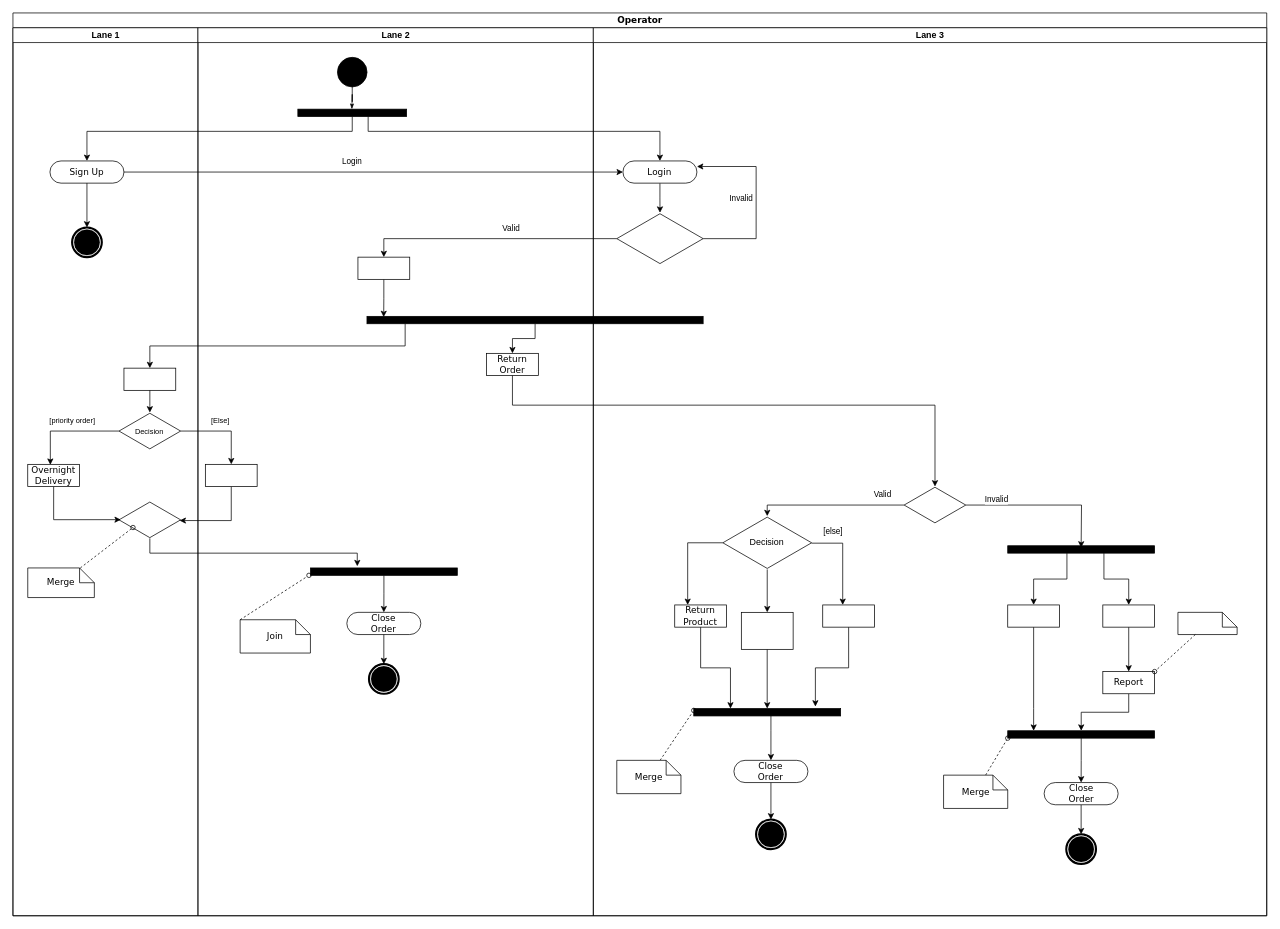
Image size: 1280x929. Some labels were removed from this diagram. Here are the shapes that lost their labels. From the top down, the centre of each, then its label:
the point at 659,238: Account Confirm
the point at 383,267: Control Pannel
the point at 149,378: Fill Order
the point at 231,475: Regular Delivery
the point at 767,630: Return Product & Payment
the point at 848,615: Exchange
the point at 1033,615: Expired Date
the point at 1128,615: Return Invalid
the point at 1207,623: Reasion
